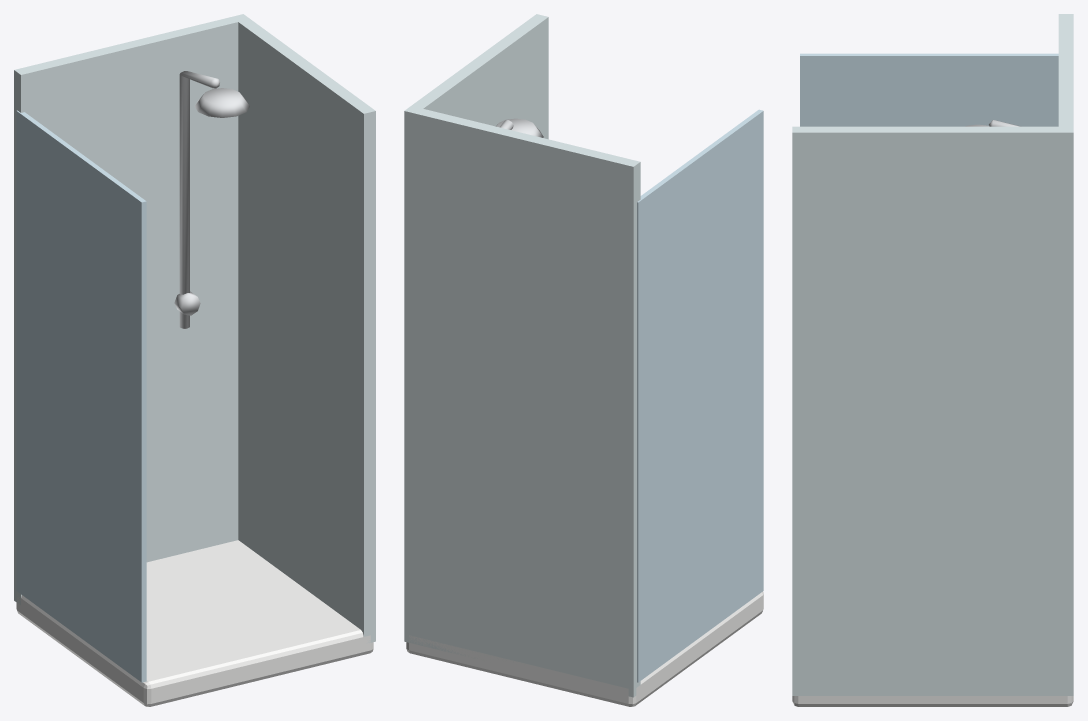
Rendered from chuveiro.glb.
3 views of the same model, side by side, from view 1: azimuth 30°, elevation 25°; view 2: azimuth 150°, elevation 25°; view 3: azimuth 270°, elevation 25° (orthographic). The views are drawn at different scales.
Visible parts, largest first — view 1: chuveiro; view 2: chuveiro; view 3: chuveiro.
Part boxes in pixels (box(x1,y1,x2,y2)): chuveiro: box(14, 14, 375, 706); chuveiro: box(404, 14, 763, 706); chuveiro: box(792, 14, 1073, 706).
Size of the model in its own units: 0.955 by 2.15 by 0.95.
